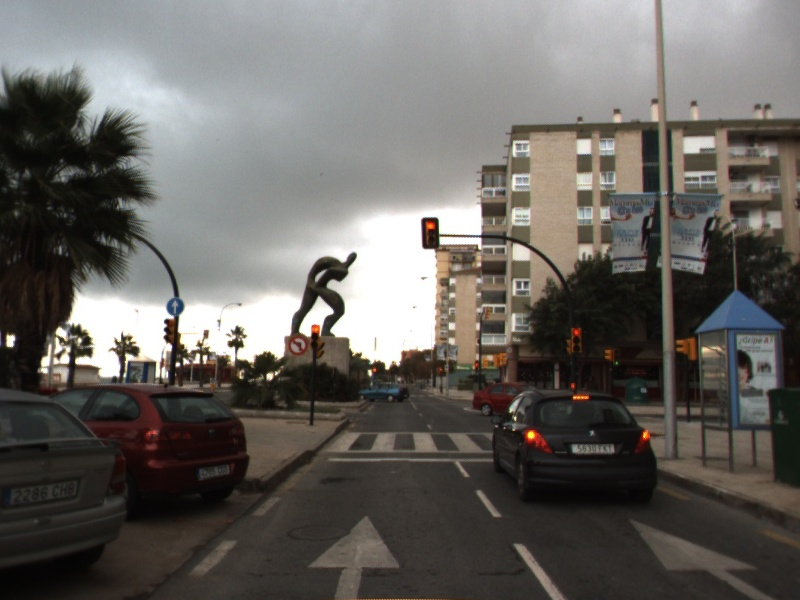STRAIGHT: (625, 516, 783, 600), (305, 514, 403, 600)
